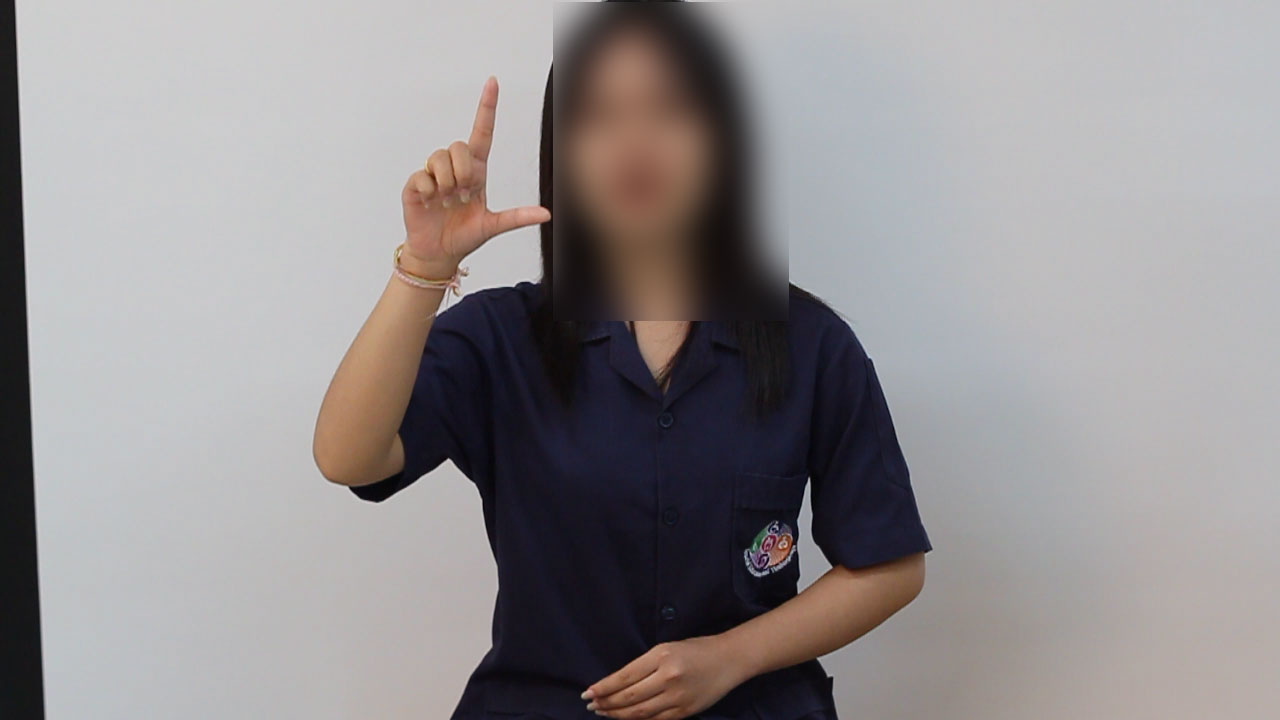lor: (370, 58, 568, 288)
